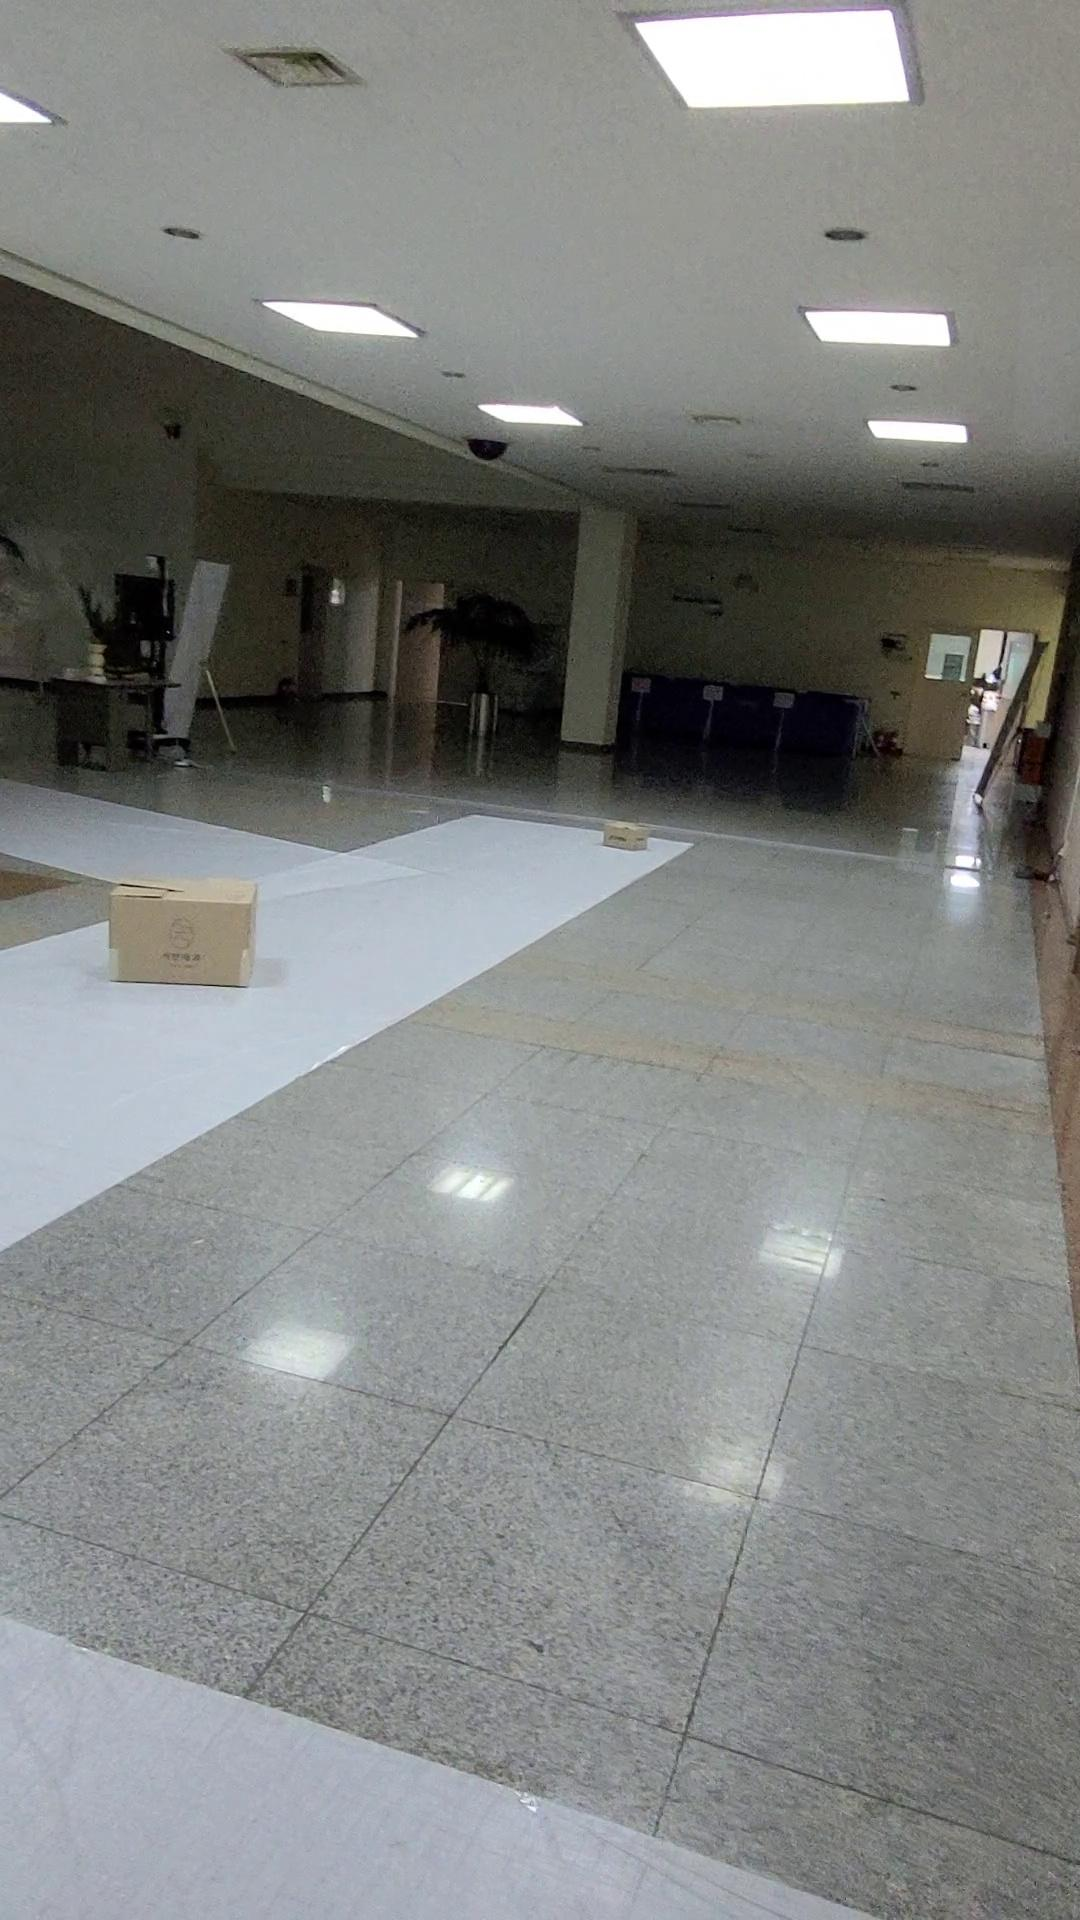Box: (108, 880, 260, 986), (601, 815, 653, 852)
